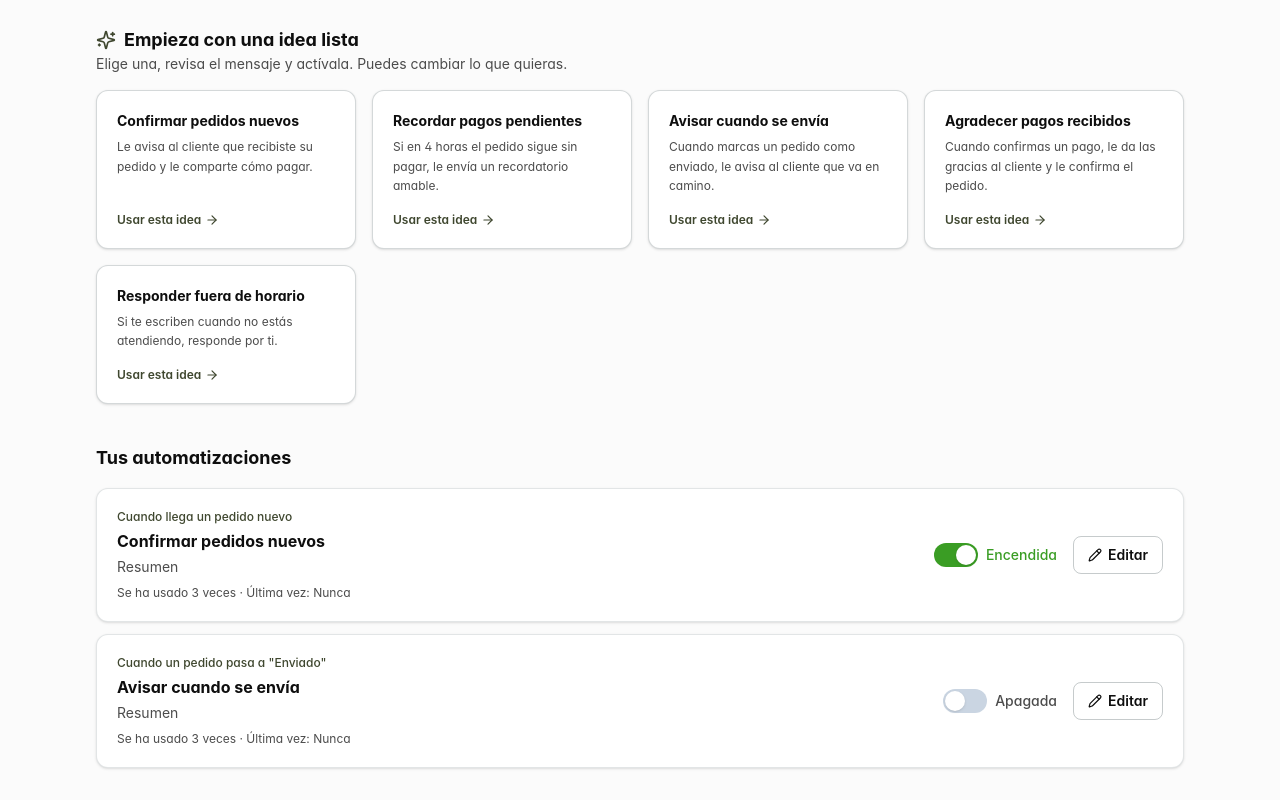
Scenario: AutomationsPage › turns an automation on through the server
(page scrolled)
Click the switch named "Encender \"Avisar cuando se envía\"" at (1000, 700), box [943,688,1057,712]
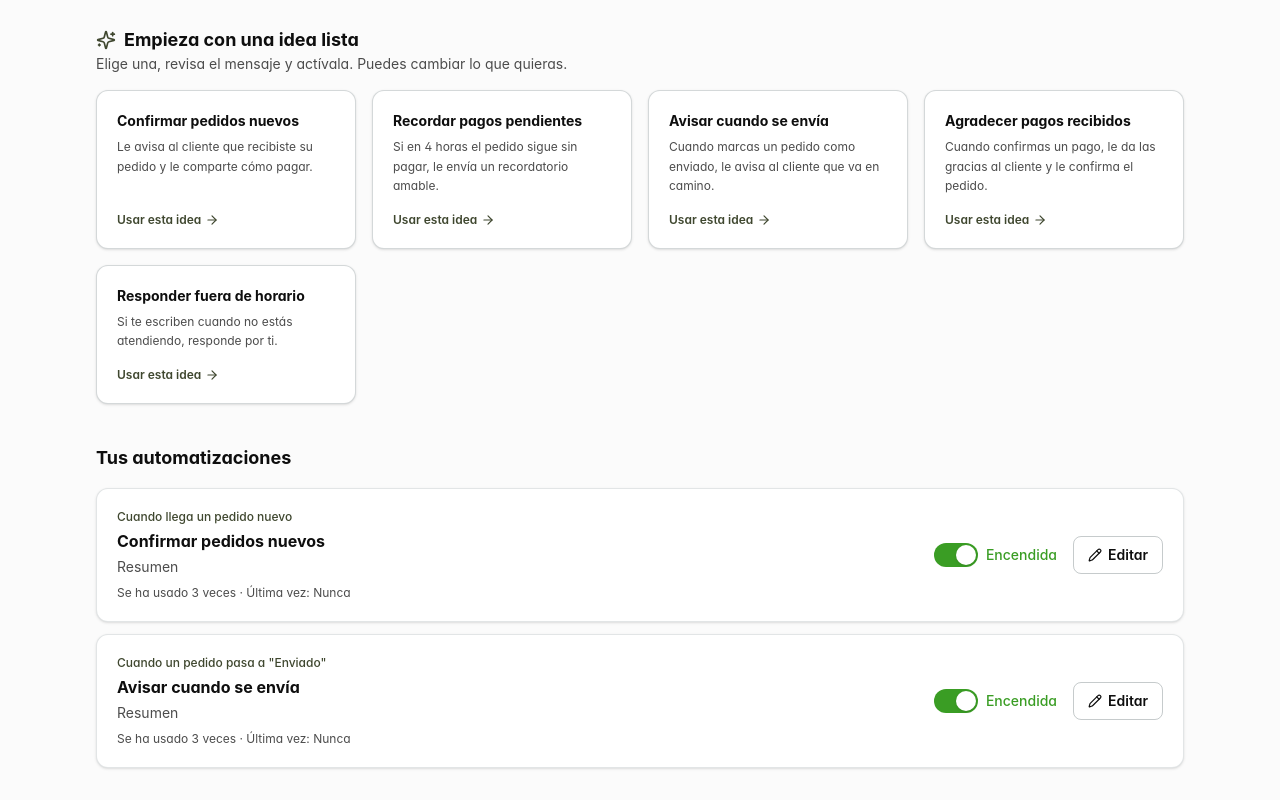
Expected: the switch named "Encender \"Avisar cuando se envía\"" is checked, [934,688,1057,712]
